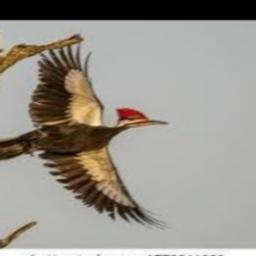Woodpecker: (0, 42, 173, 232)
